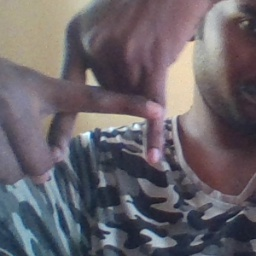H: (28, 44, 181, 175)
